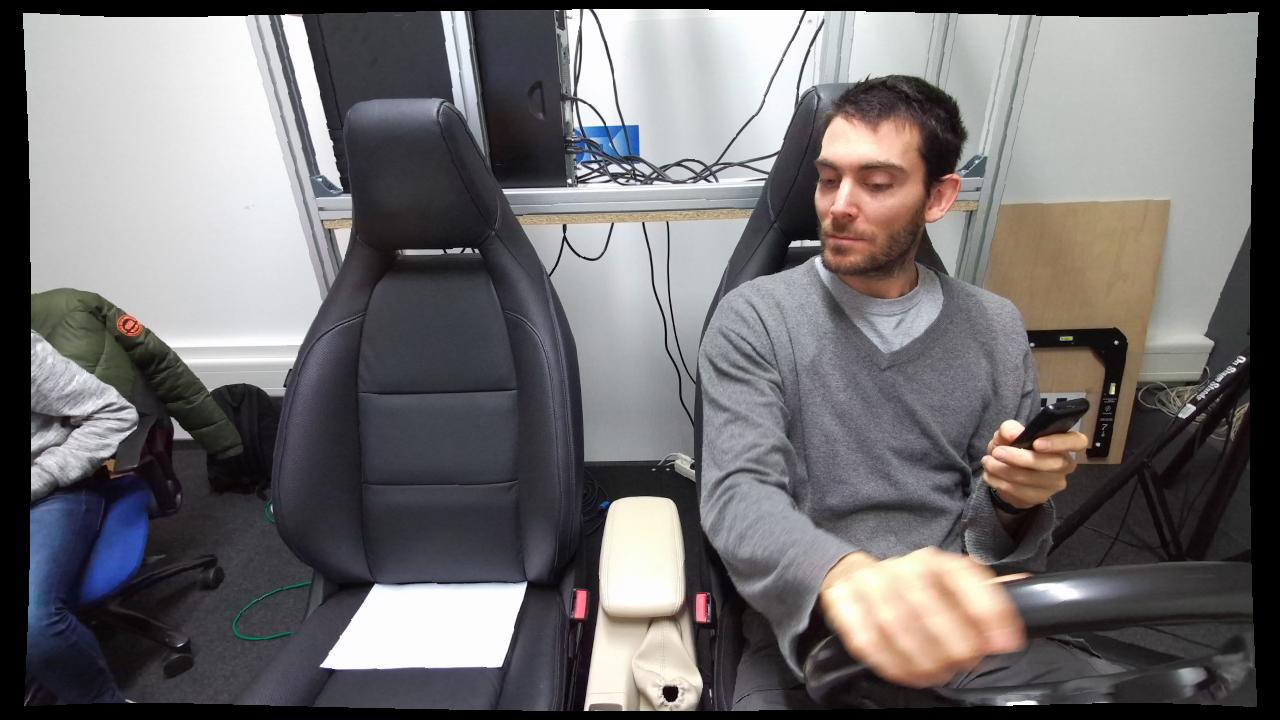Distracted: (695, 72, 1068, 707)
PhoneUse: (961, 377, 1097, 538)
